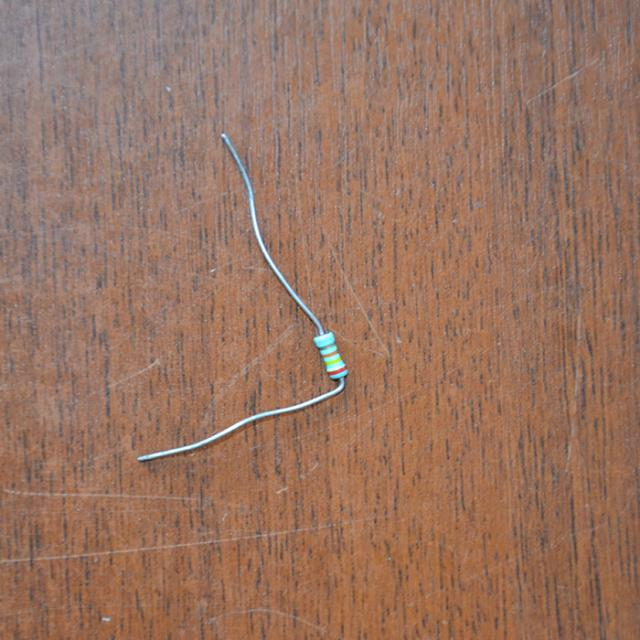gold: (319, 344, 336, 351)
orange: (323, 349, 337, 358)
red: (328, 365, 346, 375)
resistor: (305, 325, 357, 386)
yellow: (325, 356, 340, 364)
